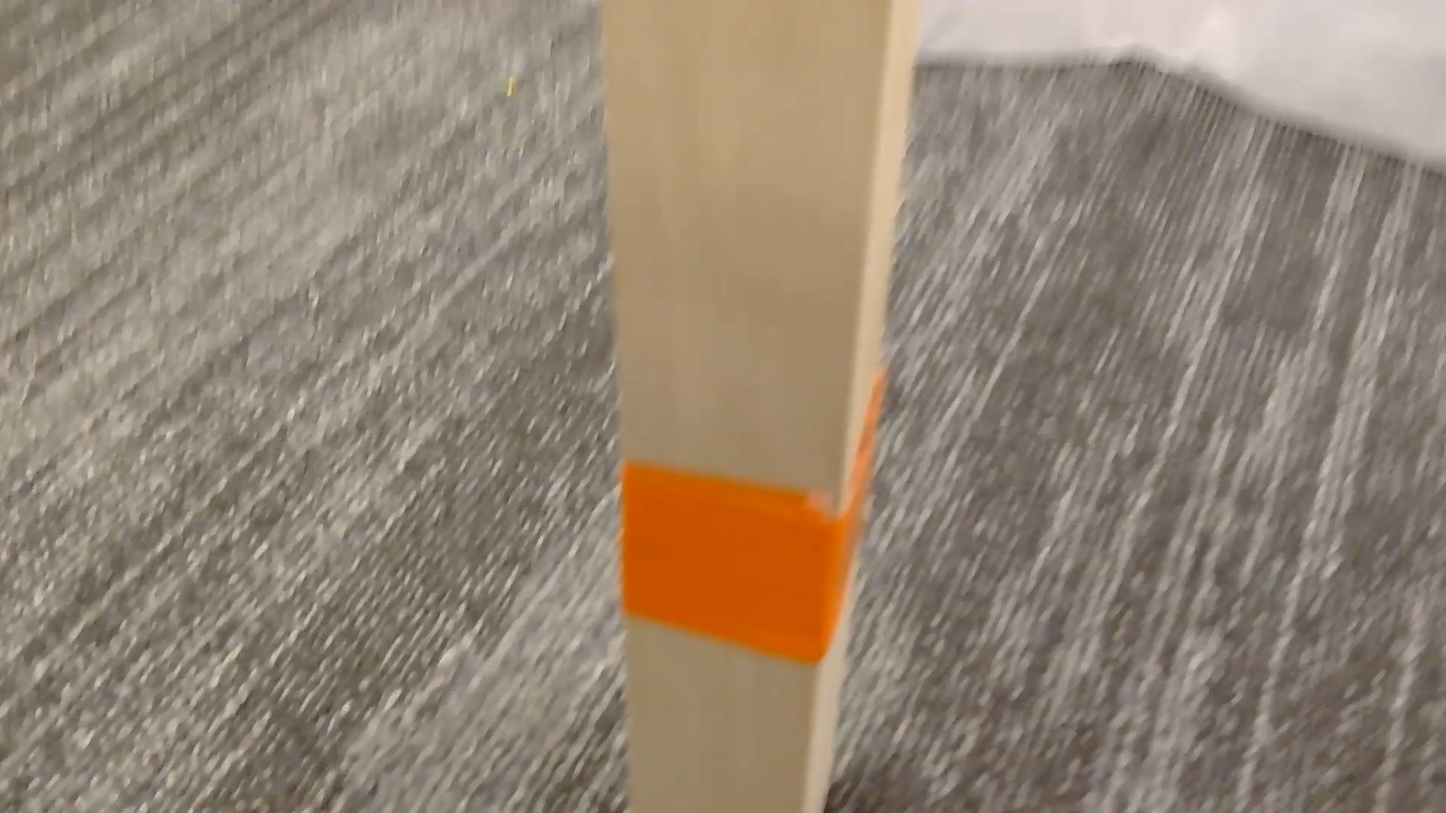Wooden Block: (600, 0, 917, 812)
